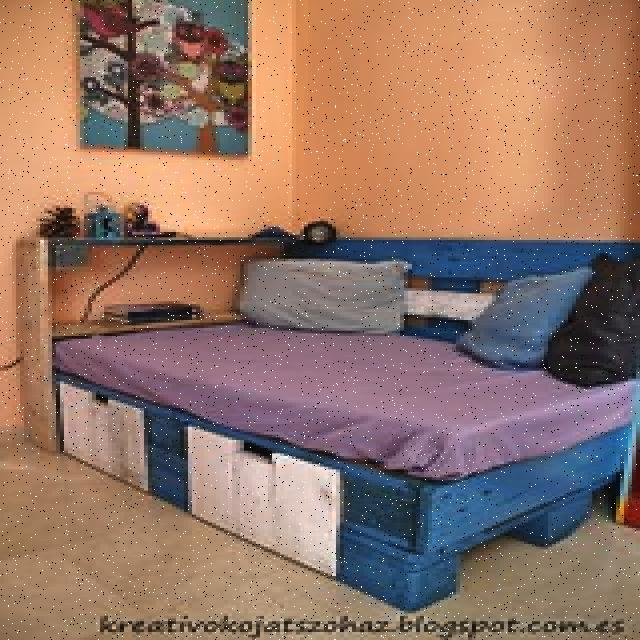bed: (56, 218, 640, 570)
